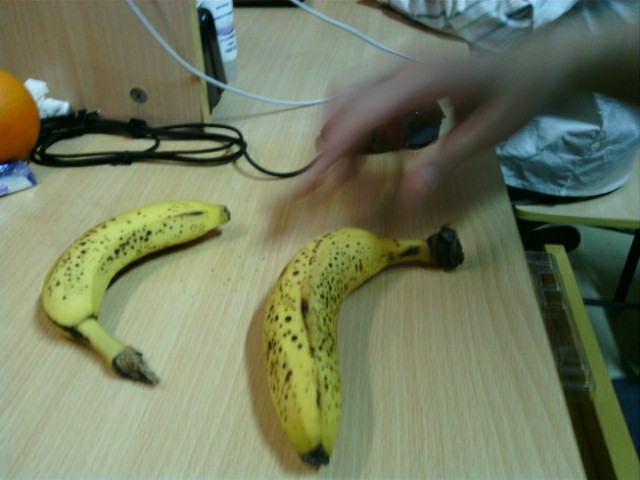normal_banana: (42, 200, 230, 386), (260, 225, 392, 465)
